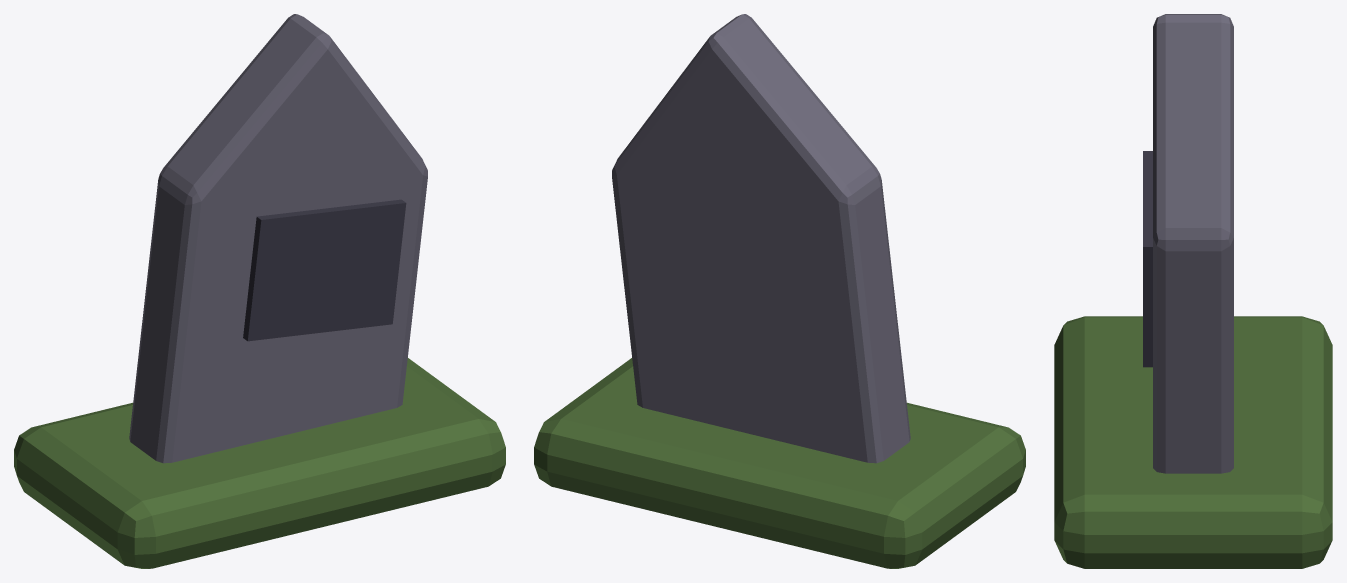
The model's file is gravestone-2.glb.
The picture shows the model from 3 angles, left to right: view 1: azimuth 30°, elevation 25°; view 2: azimuth 150°, elevation 25°; view 3: azimuth 270°, elevation 25°; orthographic projection. The views are drawn at different scales.
Visible parts, largest first — view 1: gravestone; view 2: gravestone; view 3: gravestone.
Part boxes in pixels (box(x1,y1,x2,y2)): gravestone: box(14, 14, 505, 568); gravestone: box(534, 14, 1025, 568); gravestone: box(1054, 14, 1332, 568).
Size of the model in its own units: 0.95 by 1.07 by 0.55.
